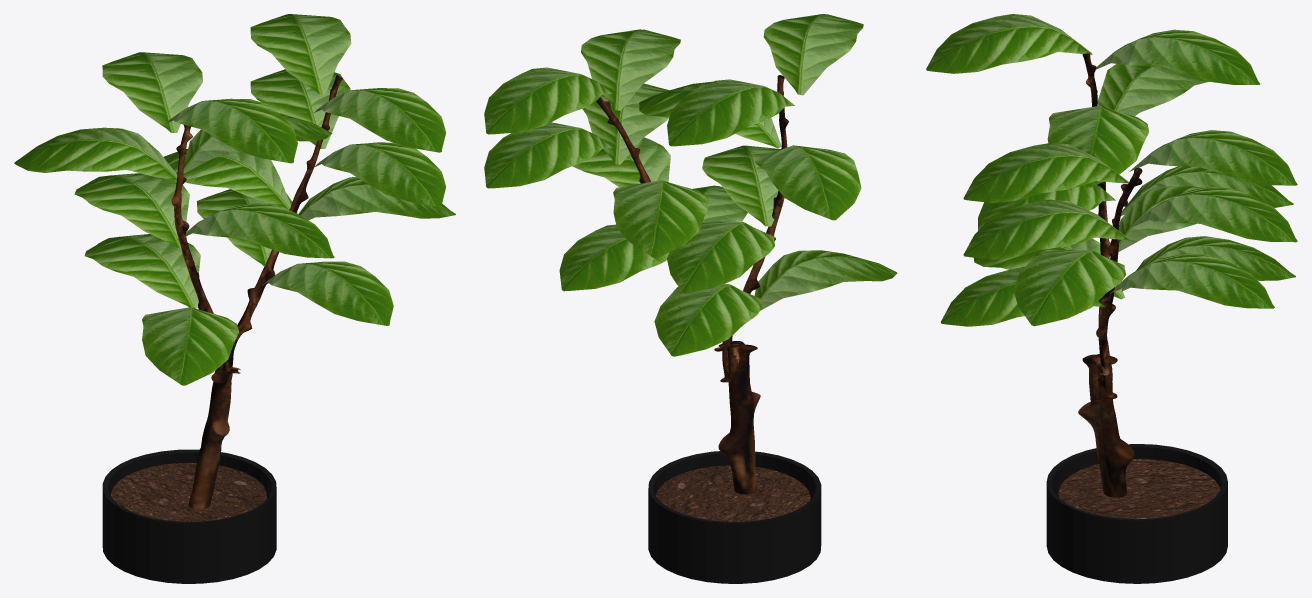
File: PLANT1.glb
3 renders of one model, left to right at view 1: azimuth 30°, elevation 25°; view 2: azimuth 150°, elevation 25°; view 3: azimuth 270°, elevation 25°, orthographic. The views are drawn at different scales.
Visible parts, largest first — view 1: Cylinder, 12972_Willow_Tree_Branch_v1_l2.001, Cylinder.001, Plane.015, Plane.011, Plane.007, Plane, Plane.006, Plane.008, Plane.009, Plane.004, Plane.012 (+7 smaller); view 2: Cylinder, Cylinder.001, 12972_Willow_Tree_Branch_v1_l2.001, Plane.003, Plane.007, Plane.009, Plane.011, Plane.005, Plane.014, Plane.013, Plane.008, Plane.006 (+7 smaller); view 3: Cylinder, Cylinder.001, 12972_Willow_Tree_Branch_v1_l2.001, Plane.002, Plane.004, Plane.008, Plane.006, Plane.007, Plane.001, Plane.005, Plane.009, Plane.010 (+7 smaller).
Boxes of the visible parts, x1,y1,x2,y2 form: Cylinder: [102, 449, 276, 583]; 12972_Willow_Tree_Branch_v1_l2.001: [171, 75, 342, 509]; Cylinder.001: [111, 463, 266, 521]; Plane.015: [142, 307, 238, 385]; Plane.011: [14, 127, 177, 180]; Plane.007: [250, 14, 351, 94]; Plane: [262, 261, 393, 325]; Plane.006: [314, 88, 446, 152]; Plane.008: [165, 98, 297, 163]; Plane.009: [102, 52, 202, 132]; Plane.004: [314, 142, 445, 206]; Plane.012: [176, 203, 334, 258]; Cylinder: [648, 451, 821, 583]; Cylinder.001: [656, 465, 810, 521]; 12972_Willow_Tree_Branch_v1_l2.001: [596, 97, 788, 494]; Plane.003: [613, 180, 709, 258]; Plane.007: [484, 67, 611, 134]; Plane.009: [667, 79, 794, 146]; Plane.011: [754, 145, 861, 220]; Plane.005: [484, 122, 611, 188]; Plane.014: [654, 284, 762, 356]; Plane.013: [667, 221, 774, 293]; Plane.008: [763, 14, 863, 95]; Plane.006: [581, 29, 680, 110]; Cylinder: [1046, 444, 1227, 583]; Cylinder.001: [1058, 459, 1220, 519]; 12972_Willow_Tree_Branch_v1_l2.001: [1078, 78, 1142, 497]; Plane.002: [1013, 249, 1126, 326]; Plane.004: [963, 199, 1129, 259]; Plane.008: [926, 14, 1092, 73]; Plane.006: [963, 143, 1128, 202]; Plane.007: [1129, 130, 1297, 185]; Plane.001: [1110, 253, 1274, 308]; Plane.005: [1130, 186, 1297, 242]; Plane.009: [1096, 29, 1259, 84]; Plane.010: [1047, 106, 1149, 187].
Bounding box in the file's own units: 1.13 × 1.47 × 0.9754.
Materials: 4 (3 with a texture image).
